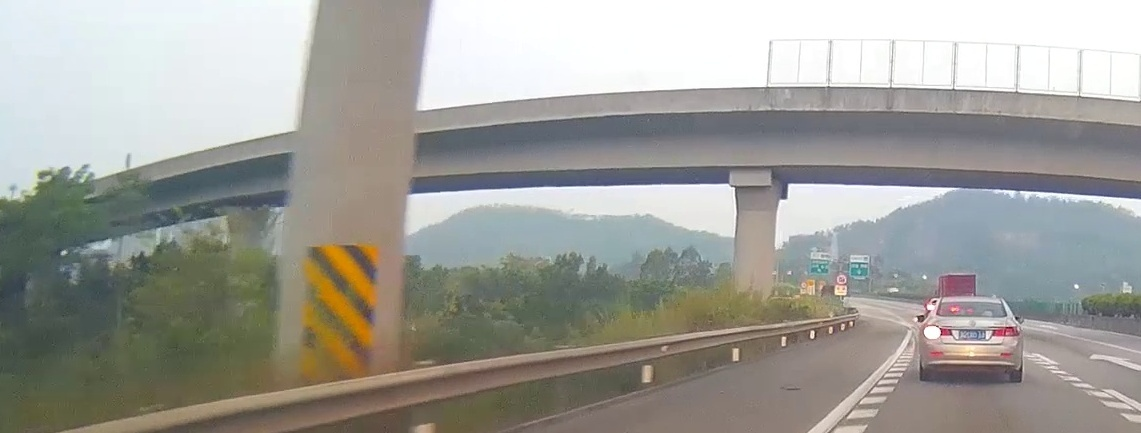L_light: (923, 325, 953, 336)
R_light: (992, 325, 1021, 337)
T_light: (963, 315, 981, 316)
day-left: (918, 296, 1023, 382)
